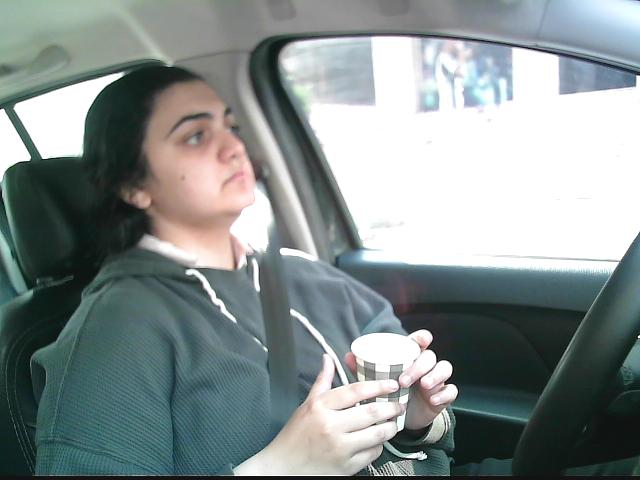Drinking: (343, 321, 437, 461)
